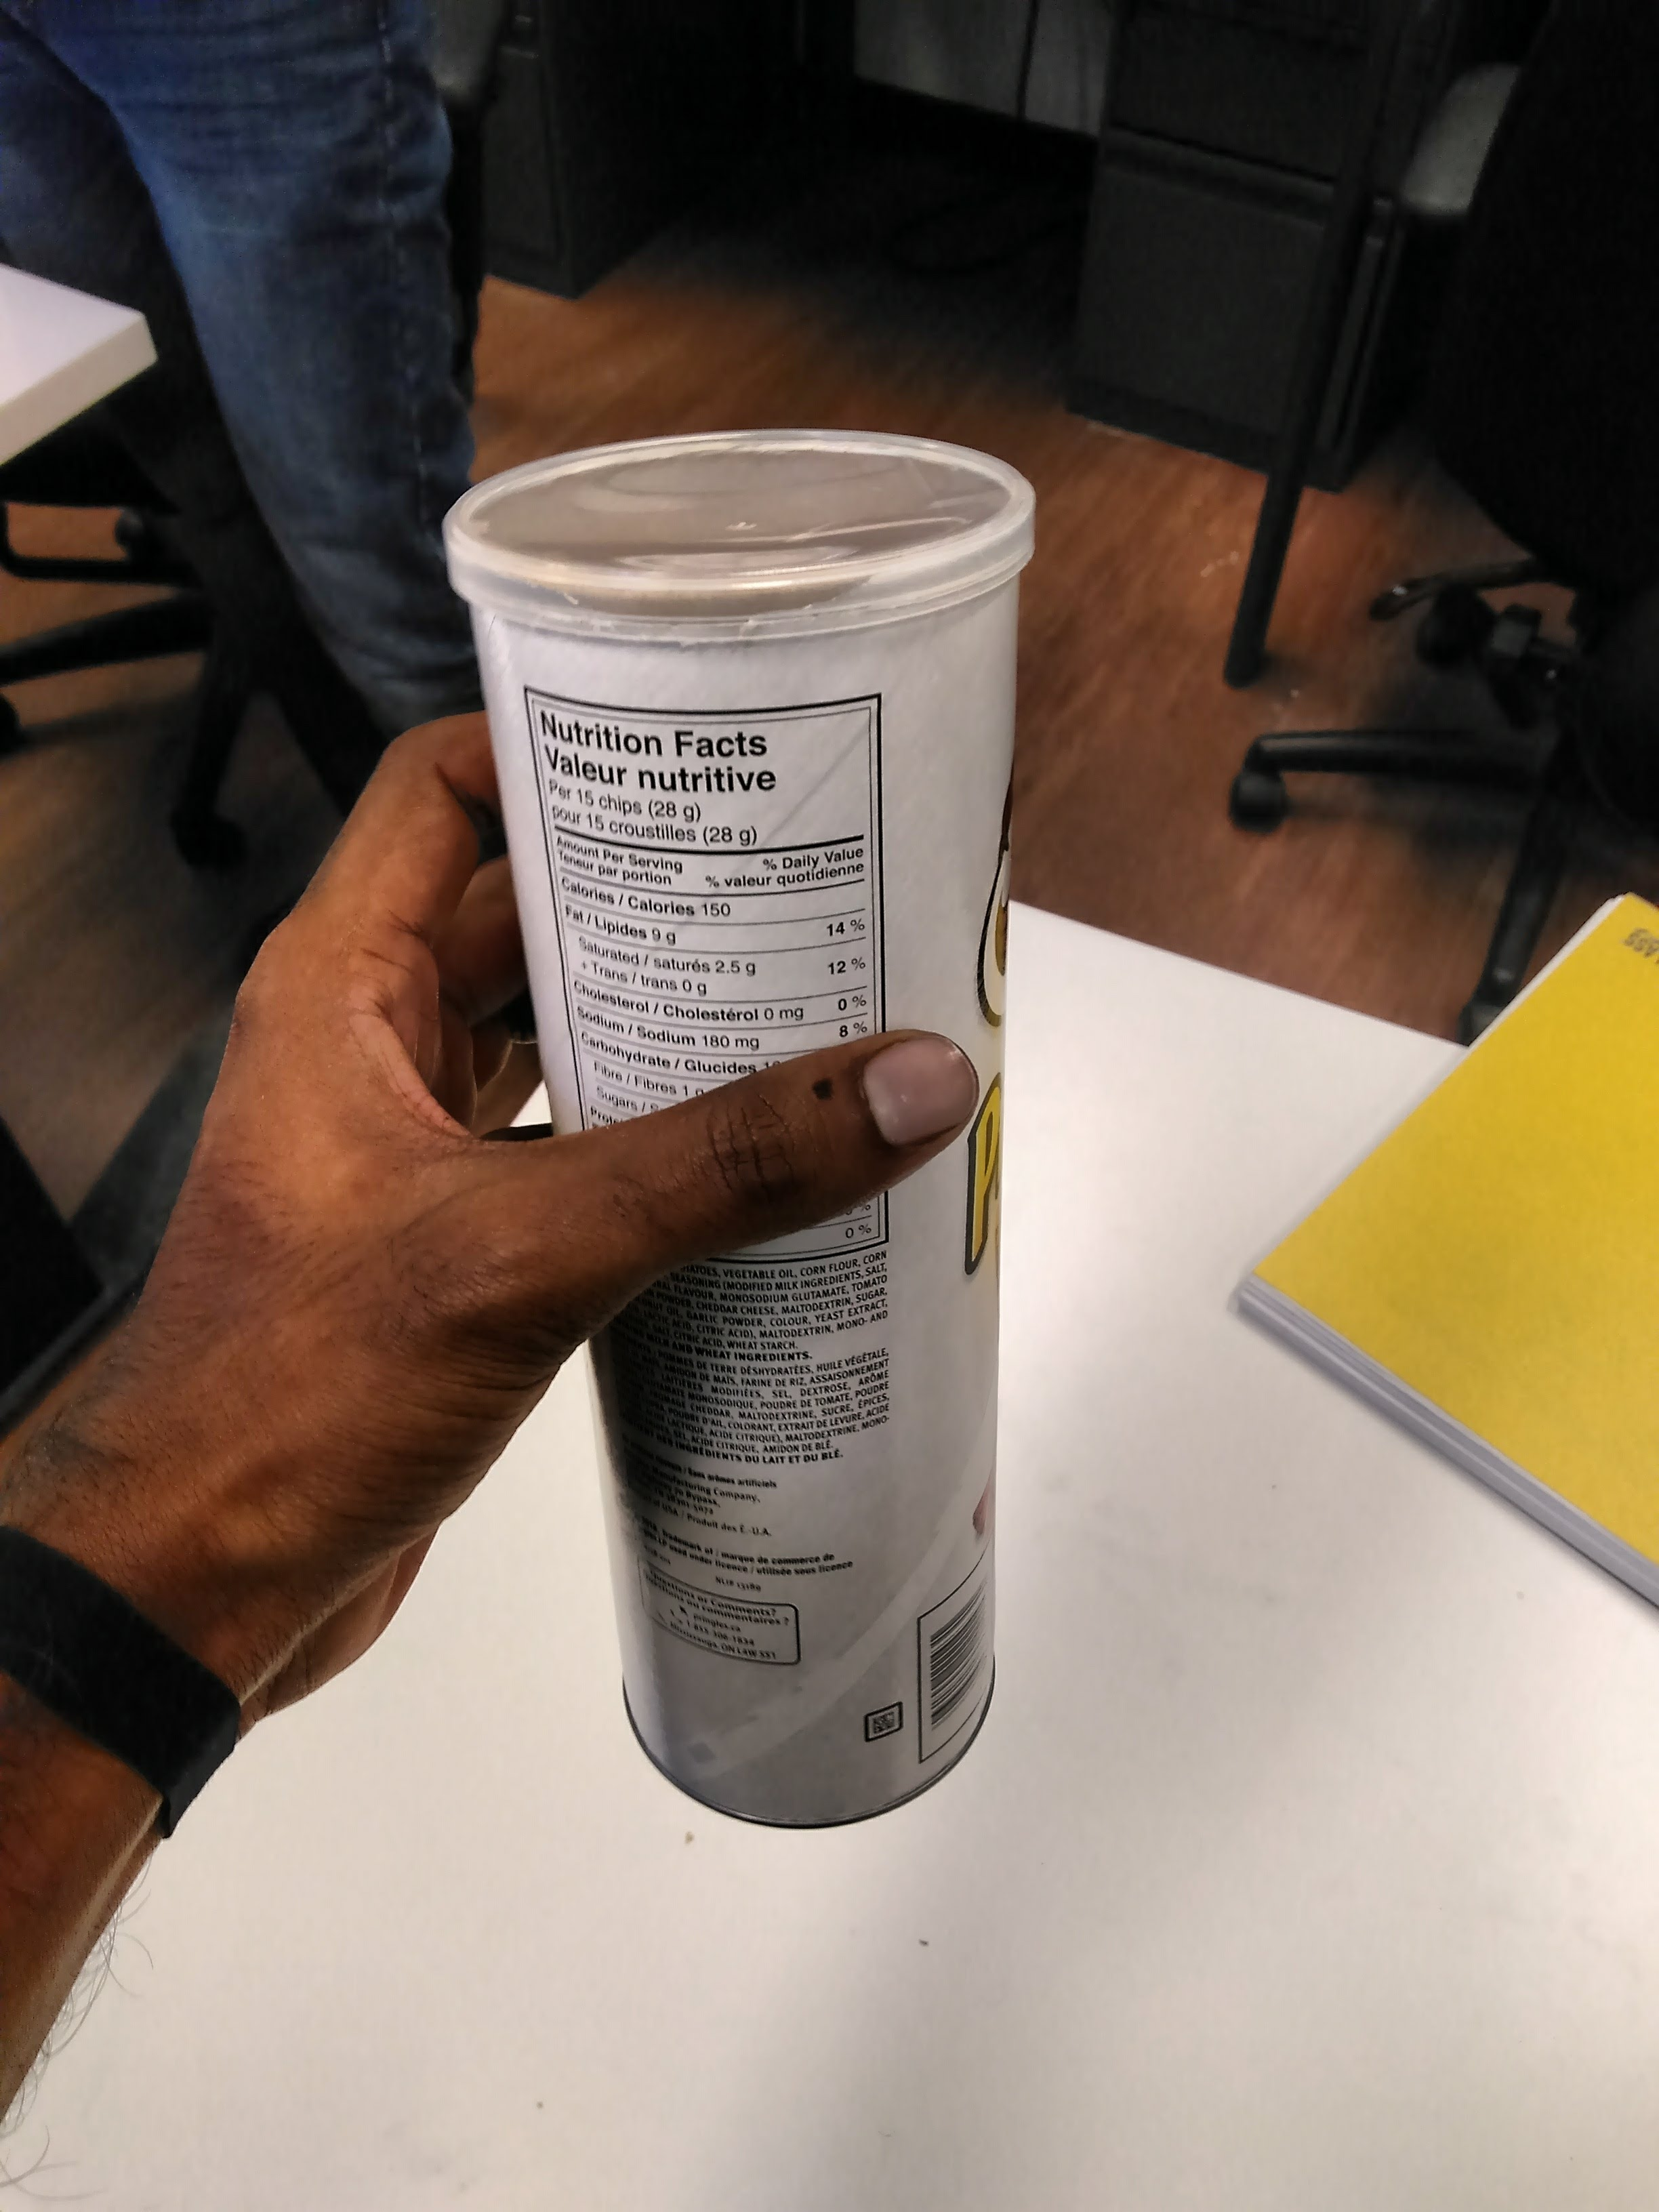pringles: (415, 418, 1072, 1838)
